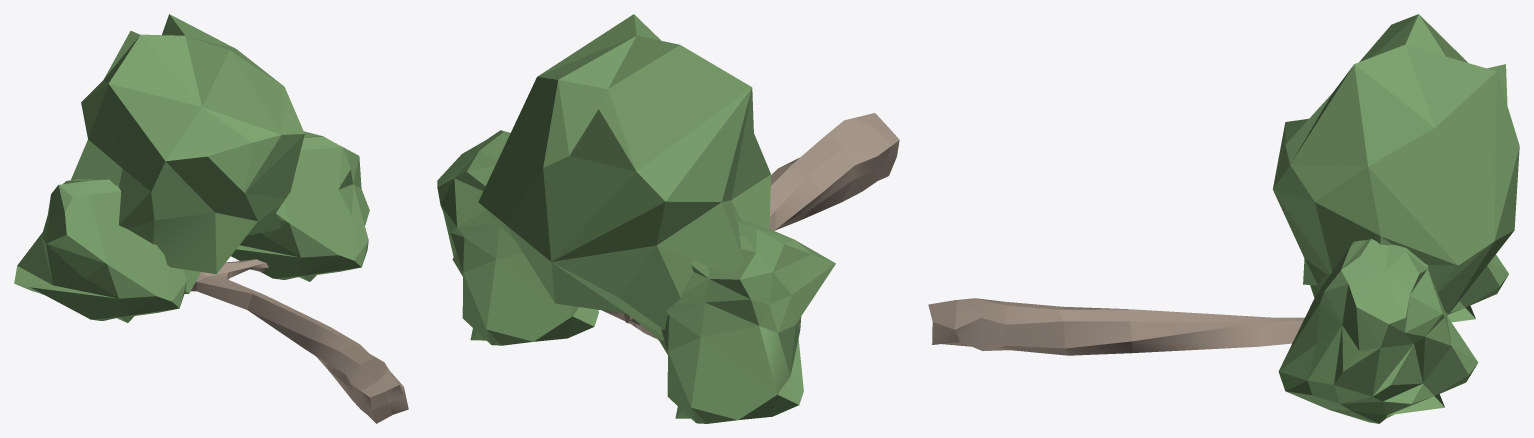
File: fallenTree1.fbx
3 views of the same model, side by side, from view 1: azimuth 30°, elevation 25°; view 2: azimuth 150°, elevation 25°; view 3: azimuth 270°, elevation 25° (orthographic). The views are drawn at different scales.
Visible parts, largest first — view 1: pSolid45, pSolid46, pSolid47, pCube12; view 2: pSolid45, pSolid46, pSolid47, pCube12; view 3: pSolid45, pSolid47, pCube12, pSolid46.
Boxes of the visible parts, x1=… form: pSolid45: x1=71, y1=14, x2=304, y2=293; pSolid46: x1=14, y1=178, x2=186, y2=322; pSolid47: x1=231, y1=131, x2=369, y2=281; pCube12: x1=191, y1=259, x2=408, y2=423; pSolid45: x1=478, y1=14, x2=770, y2=340; pSolid46: x1=658, y1=220, x2=835, y2=423; pSolid47: x1=437, y1=130, x2=598, y2=345; pCube12: x1=602, y1=113, x2=899, y2=340; pSolid45: x1=1273, y1=14, x2=1519, y2=313; pSolid47: x1=1278, y1=239, x2=1478, y2=423; pCube12: x1=928, y1=298, x2=1304, y2=355; pSolid46: x1=1310, y1=254, x2=1508, y2=322.
Bounding box in the file's own units: 8 × 6.83 × 11.07.
